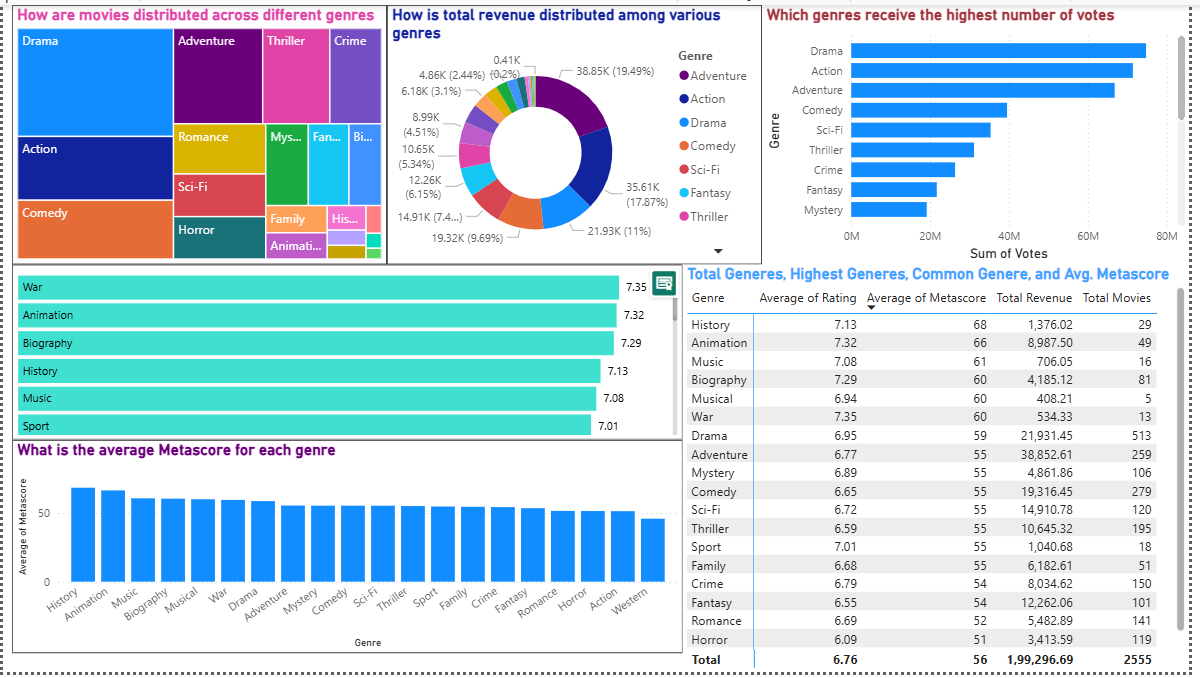

The page's visual inventory and layout, read from the dashboard file:
{"tool":"powerbi","page":{"name":"Page 2","canvas":[1280,720],"ordinal":1},"visuals":[{"type":"treemap","title":"How are movies distributed across different genres","fields":{"Group":["IMDB-Movie-Data.Genre"],"Values":["IMDB-Movie-Data.Total Movies"]},"box":[9.7,0,404.8,280.1],"z":0},{"type":"horizontalBarChartPBICraft","title":"Which genres have the highest average IMDb ratings","fields":{"category":["IMDB-Movie-Data.Genre"],"measure":["Avg(IMDB-Movie-Data.Rating)"]},"box":[9.7,280.1,723.8,189.4],"z":1000},{"type":"donutChart","title":"How is total revenue distributed among various genres","fields":{"Category":["IMDB-Movie-Data.Genre"],"Y":["IMDB-Movie-Data.Total Revenue"]},"box":[414.5,0,404.8,280.1],"z":2000},{"type":"columnChart","title":"What is the average Metascore for each genre","fields":{"Y":["Avg(IMDB-Movie-Data.Metascore)"],"Category":["IMDB-Movie-Data.Genre"]},"box":[9.7,469.6,723.8,229.9],"z":3000},{"type":"barChart","title":"Which genres receive the highest number of votes","fields":{"Category":["IMDB-Movie-Data.Genre"],"Y":["Sum(IMDB-Movie-Data.Votes)"]},"box":[819.3,0,461.5,280.1],"z":4000},{"type":"pivotTable","title":"Total Generes, Highest Generes, Common Genere, and Avg. Metascore","fields":{"Values":["Avg(IMDB-Movie-Data.Rating)","Avg(IMDB-Movie-Data.Metascore)","IMDB-Movie-Data.Total Revenue","IMDB-Movie-Data.Total Movies"],"Rows":["IMDB-Movie-Data.Genre"]},"box":[733.5,280.1,547.3,440.4],"z":5000}]}

Visuals, with their boxes in screenshot pixels (x1, y1, x2, y2), scaled from the page's 1280x720 canvas onto the 1200x678 screenshot:
"How are movies distributed across different genres" treemap: [9, 0, 389, 264]
"Which genres have the highest average IMDb ratings" horizontalBarChartPBICraft: [9, 264, 688, 442]
"How is total revenue distributed among various genres" donutChart: [389, 0, 768, 264]
"What is the average Metascore for each genre" columnChart: [9, 442, 688, 659]
"Which genres receive the highest number of votes" barChart: [768, 0, 1199, 264]
"Total Generes, Highest Generes, Common Genere, and Avg. Metascore" pivotTable: [688, 264, 1199, 677]
